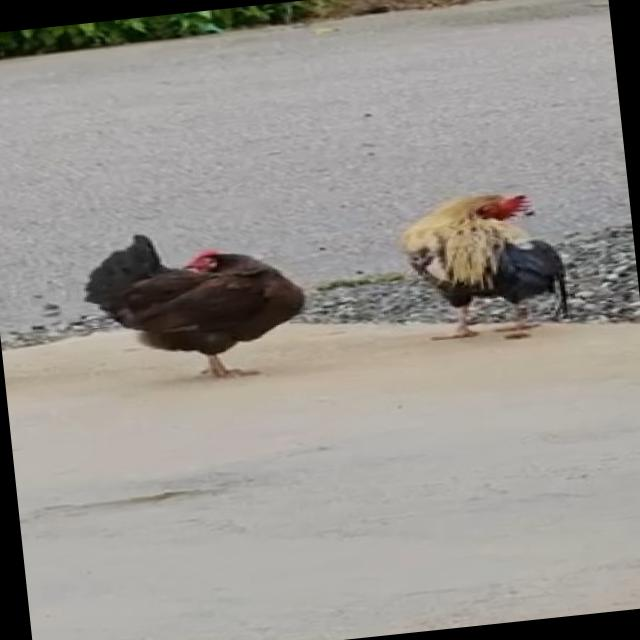self preening: (77, 202, 340, 390), (370, 156, 604, 349)
